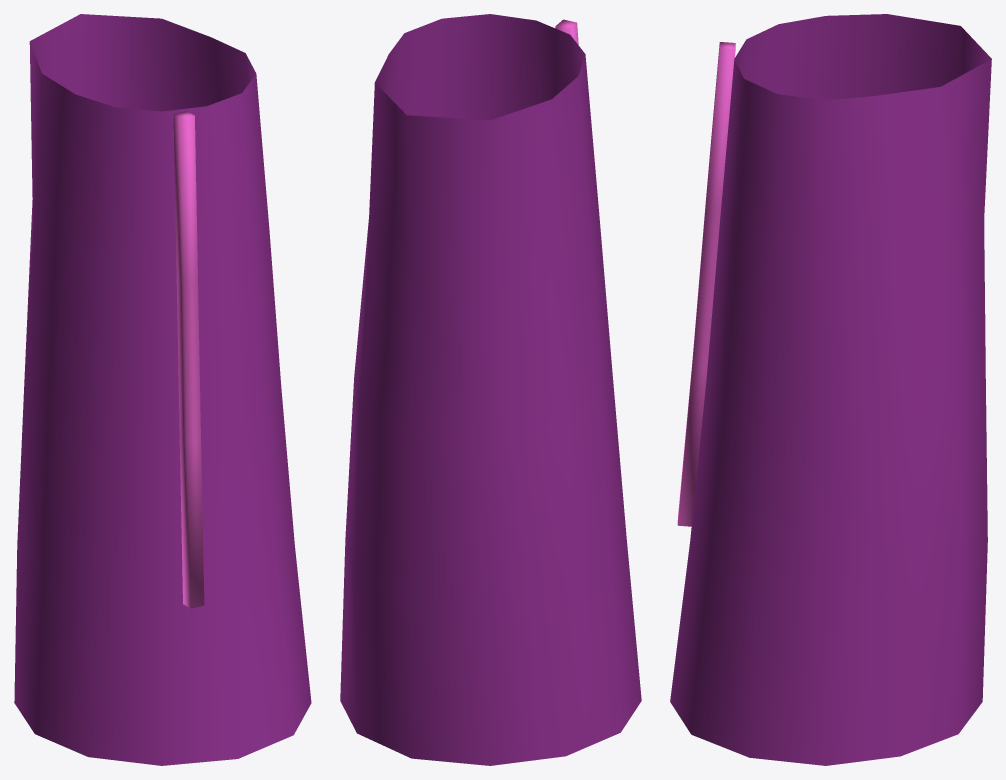
The model's file is nebula_armor_greave.L.glb.
3 renders of one model, left to right at view 1: azimuth 30°, elevation 25°; view 2: azimuth 150°, elevation 25°; view 3: azimuth 270°, elevation 25°, orthographic. The views are drawn at different scales.
Visible parts, largest first — view 1: nebula_armor_greave.L; view 2: nebula_armor_greave.L; view 3: nebula_armor_greave.L.
Part boxes in pixels (box(x1,y1,x2,y2)): nebula_armor_greave.L: box(14, 14, 311, 765); nebula_armor_greave.L: box(340, 14, 641, 765); nebula_armor_greave.L: box(670, 14, 991, 765).
Bounding box in the file's own units: 0.1601 × 0.3771 × 0.1708.
